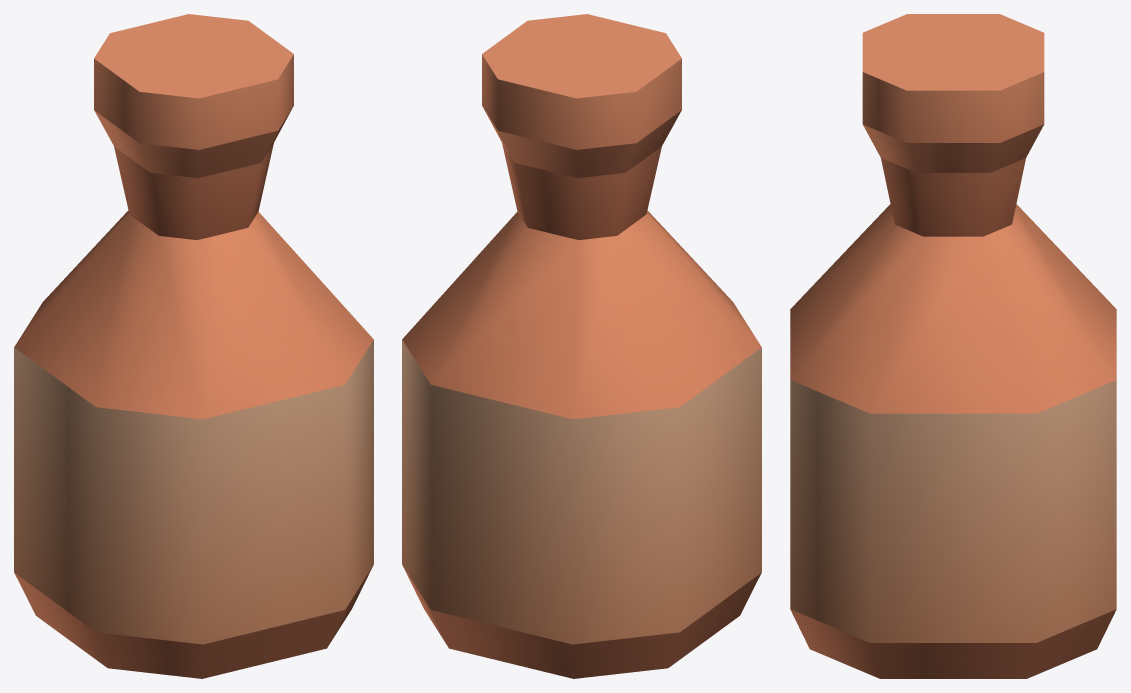
Rendered from bottle_large.glb.
3 views of the same model, side by side, from view 1: azimuth 30°, elevation 25°; view 2: azimuth 150°, elevation 25°; view 3: azimuth 270°, elevation 25° (orthographic).
Visible parts, largest first — view 1: bottle-large; view 2: bottle-large; view 3: bottle-large.
Boxes of the visible parts, <box> form: bottle-large: <box>14,14,373,678</box>; bottle-large: <box>402,14,761,678</box>; bottle-large: <box>790,14,1116,678</box>.
Size of the model in its own units: 0.4658 by 0.8905 by 0.4658.
Materials: 1 (1 with a texture image).
